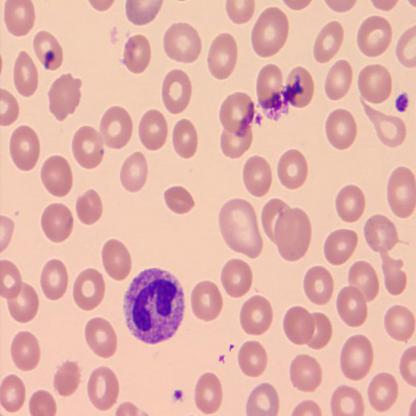Segmented neutrophil: (123, 266, 185, 346)
